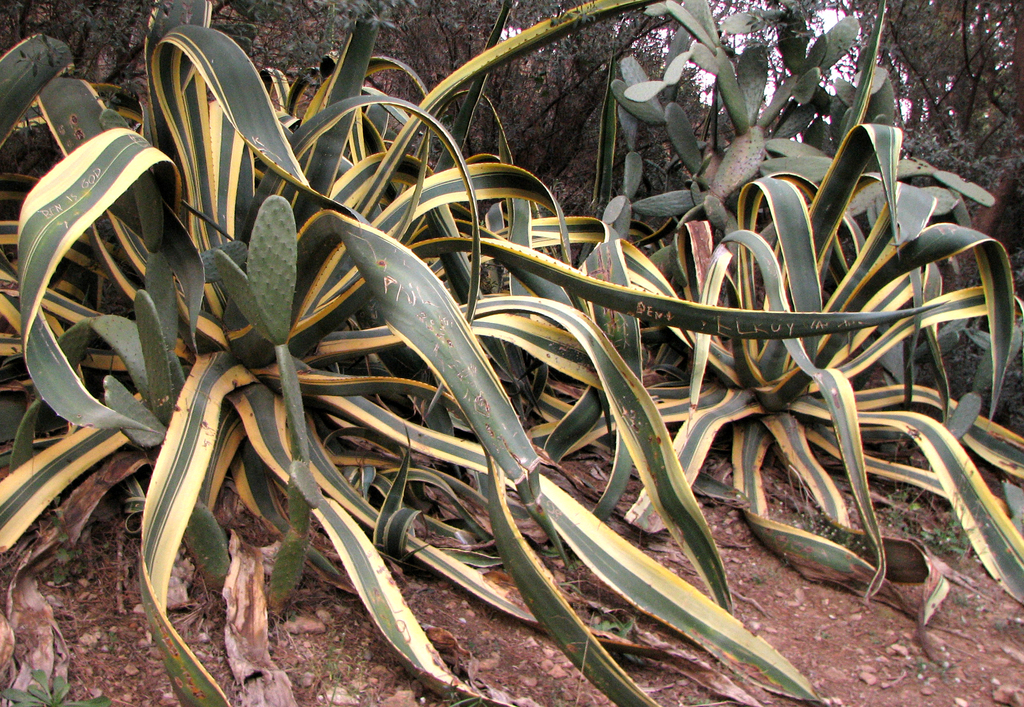Tree: (0, 0, 1024, 323)
